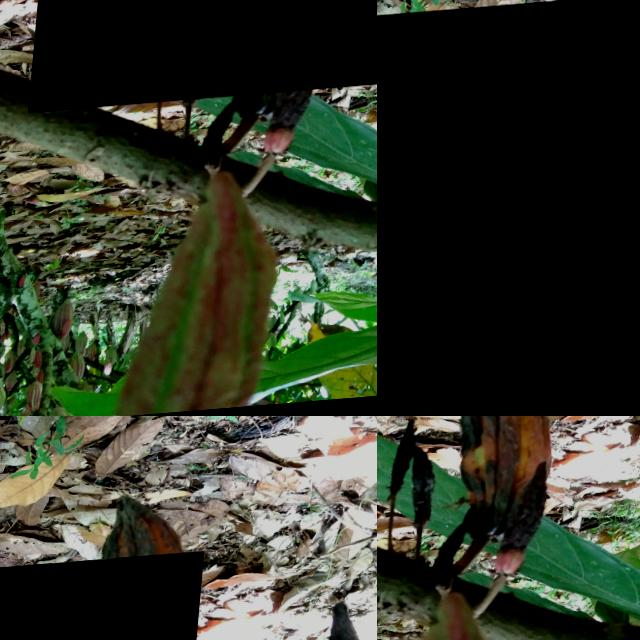Fitoftora: (446, 416, 586, 553), (502, 470, 559, 582), (406, 447, 455, 529), (386, 423, 425, 503)
Monilia: (377, 0, 640, 416), (34, 0, 377, 114), (0, 558, 208, 640)
